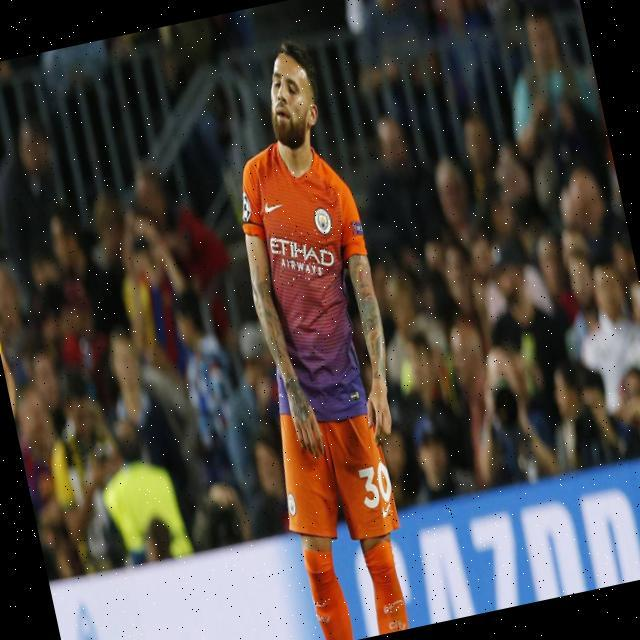Etihad Airways: (268, 224, 338, 286)
Nike: (381, 597, 404, 613), (263, 197, 284, 214), (379, 500, 394, 519), (312, 595, 332, 609)
